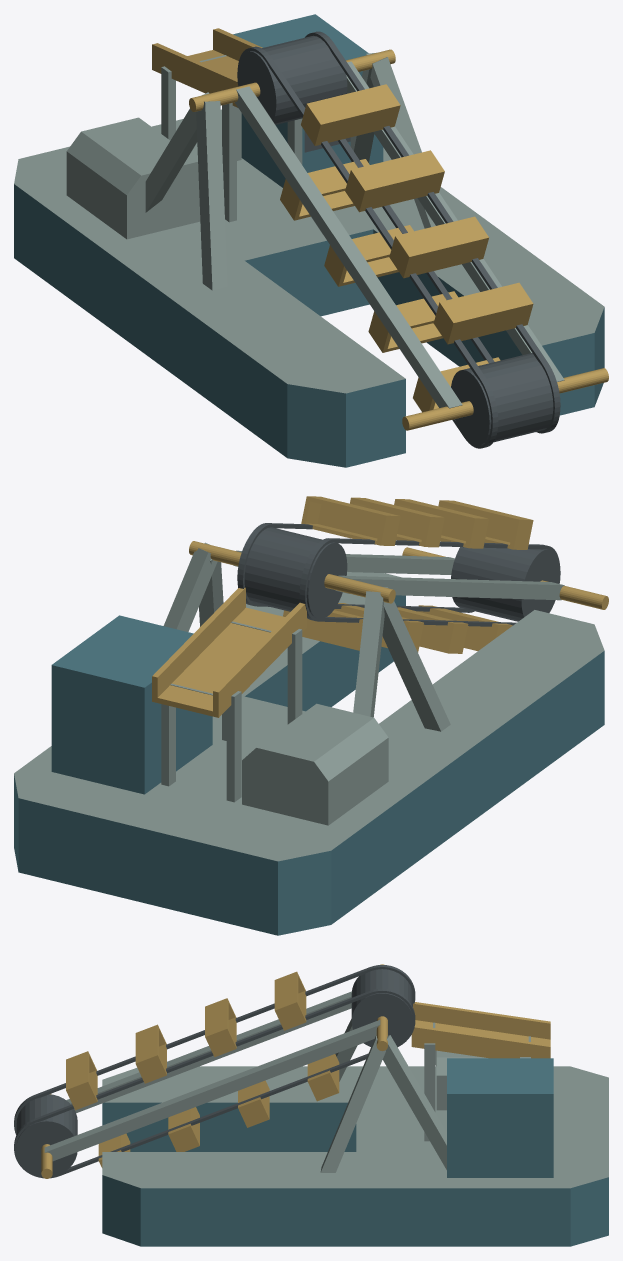
The picture shows the model from 3 angles, top to bottom: view 1: azimuth 30°, elevation 25°; view 2: azimuth 150°, elevation 25°; view 3: azimuth 270°, elevation 25°; orthographic projection. The views are drawn at different scales.
Visible parts, largest first — view 1: WholeJoinedForewellWorkHull, WholeAftDriveHousing, LeftWholeInclinedLadderRail, WholeLowerLadderDrum, WholeUpperLadderDrum, WholeAftClosedControlHouse, LeftForeWholeUpperAxleSupport, ForwardRiseWholeEmptyScoop2, ForwardRiseWholeEmptyScoop0, ForwardRiseWholeEmptyScoop1, ForwardRiseWholeEmptyScoop3, WholeAftOpenDischargeTrough (+14 smaller); view 2: WholeJoinedForewellWorkHull, WholeAftClosedControlHouse, WholeAftDriveHousing, WholeAftOpenDischargeTrough, WholeUpperLadderDrum, WholeLowerLadderDrum, LeftWholeInclinedLadderRail, LeftForeWholeUpperAxleSupport, ForwardRiseWholeEmptyScoop3, WholeDischargeTroughStand1, LeftAftWholeUpperAxleSupport, RightAftWholeUpperAxleSupport (+14 smaller); view 3: WholeJoinedForewellWorkHull, WholeAftClosedControlHouse, WholeAftOpenDischargeTrough, RightWholeInclinedLadderRail, RightWholeContinuousLadderRoute, WholeLowerLadderDrum, WholeUpperLadderDrum, LeftWholeInclinedLadderRail, RightAftWholeUpperAxleSupport, RightForeWholeUpperAxleSupport, LeftWholeContinuousLadderRoute, ForwardRiseWholeEmptyScoop3 (+9 smaller).
Boxes of the visible parts, left/top/right/bottom form: WholeJoinedForewellWorkHull: left=14, top=109, right=604, bottom=467; WholeAftDriveHousing: left=66, top=117, right=200, bottom=239; LeftWholeInclinedLadderRail: left=235, top=86, right=462, bottom=408; WholeLowerLadderDrum: left=451, top=353, right=560, bottom=446; WholeUpperLadderDrum: left=237, top=35, right=347, bottom=124; WholeAftClosedControlHouse: left=233, top=14, right=383, bottom=187; LeftForeWholeUpperAxleSupport: left=196, top=101, right=227, bottom=290; ForwardRiseWholeEmptyScoop2: left=345, top=150, right=444, bottom=212; ForwardRiseWholeEmptyScoop0: left=433, top=282, right=533, bottom=344; ForwardRiseWholeEmptyScoop1: left=389, top=216, right=489, bottom=278; ForwardRiseWholeEmptyScoop3: left=301, top=84, right=400, bottom=145; WholeAftOpenDischargeTrough: left=152, top=28, right=262, bottom=107; WholeJoinedForewellWorkHull: left=14, top=572, right=604, bottom=935; WholeAftClosedControlHouse: left=51, top=615, right=212, bottom=794; WholeAftDriveHousing: left=242, top=703, right=388, bottom=825; WholeAftOpenDischargeTrough: left=152, top=587, right=306, bottom=717; WholeUpperLadderDrum: left=237, top=527, right=347, bottom=618; WholeLowerLadderDrum: left=451, top=542, right=560, bottom=621; LeftWholeInclinedLadderRail: left=335, top=575, right=564, bottom=600; LeftForeWholeUpperAxleSupport: left=382, top=587, right=450, bottom=731; ForwardRiseWholeEmptyScoop3: left=301, top=496, right=400, bottom=545; WholeDischargeTroughStand1: left=161, top=683, right=241, bottom=802; LeftAftWholeUpperAxleSupport: left=353, top=591, right=384, bottom=717; RightAftWholeUpperAxleSupport: left=163, top=548, right=217, bottom=631; WholeJoinedForewellWorkHull: left=102, top=1066, right=608, bottom=1246; WholeAftClosedControlHouse: left=447, top=1058, right=553, bottom=1177; WholeAftOpenDischargeTrough: left=411, top=1002, right=550, bottom=1058; RightWholeInclinedLadderRail: left=44, top=1020, right=380, bottom=1161; RightWholeContinuousLadderRoute: left=14, top=988, right=415, bottom=1178; WholeLowerLadderDrum: left=16, top=1094, right=77, bottom=1176; WholeUpperLadderDrum: left=351, top=969, right=412, bottom=1046; LeftWholeInclinedLadderRail: left=66, top=991, right=351, bottom=1113; RightAftWholeUpperAxleSupport: left=382, top=1035, right=446, bottom=1169; RightForeWholeUpperAxleSupport: left=320, top=1036, right=385, bottom=1172; LeftWholeContinuousLadderRoute: left=14, top=965, right=415, bottom=1134; ForwardRiseWholeEmptyScoop3: left=274, top=971, right=306, bottom=1030.
Bounding box in the file's own units: 2.86 × 2.28 × 5.91.
